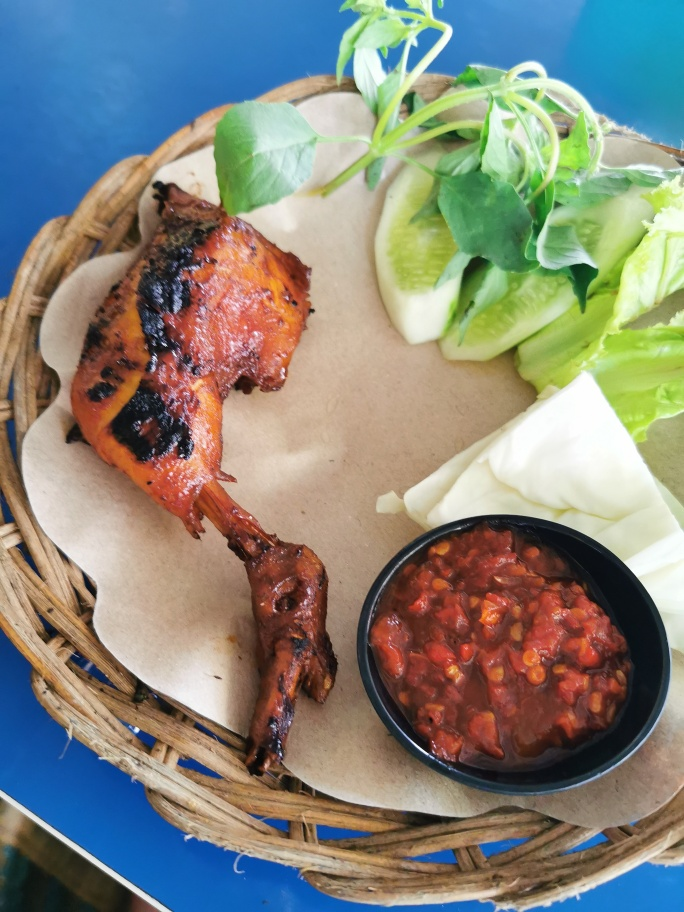ayam bakar: (61, 170, 355, 764)
